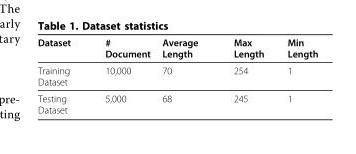table: (36, 36, 317, 114)
table column: (87, 36, 155, 114), (155, 36, 215, 114), (215, 36, 275, 114), (36, 36, 87, 114), (275, 36, 317, 114)
table column header: (36, 36, 317, 61)
table row: (36, 61, 317, 89), (36, 36, 317, 61), (36, 89, 317, 114)
